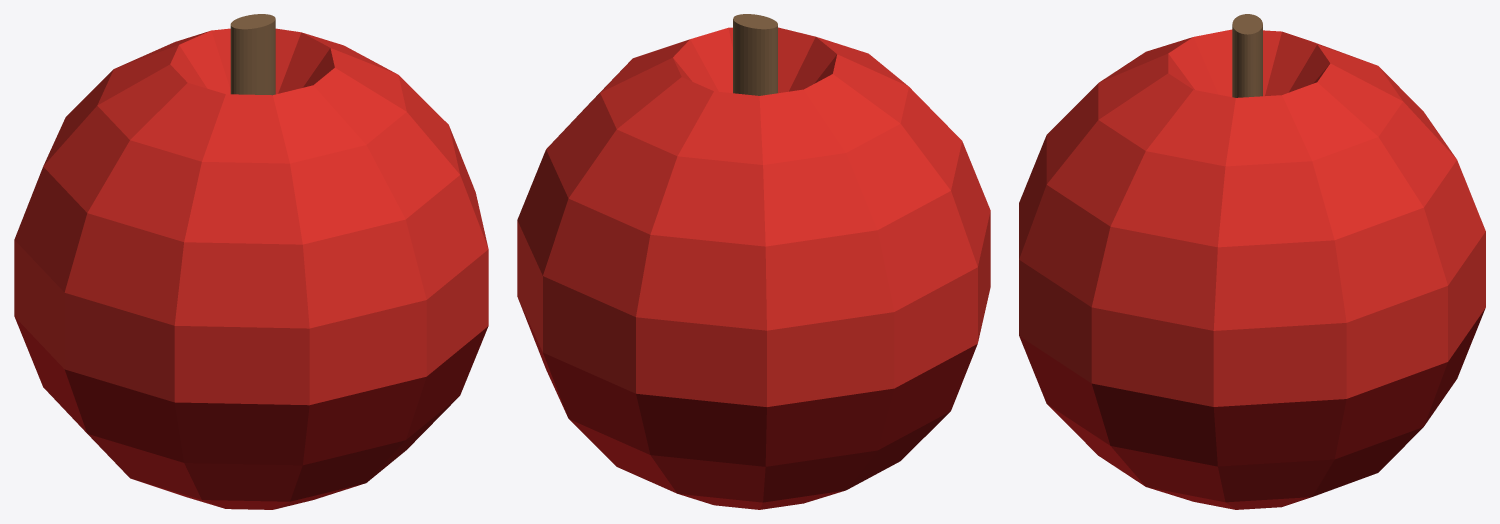
The model's file is Apple.fbx.
3 renders of one model, left to right at view 1: azimuth 30°, elevation 25°; view 2: azimuth 150°, elevation 25°; view 3: azimuth 270°, elevation 25°, orthographic.
Visible parts, largest first — view 1: Sphere; view 2: Sphere; view 3: Sphere.
Part boxes in pixels (bbox=[...]): Sphere: bbox=[14, 14, 488, 509]; Sphere: bbox=[517, 14, 990, 509]; Sphere: bbox=[1019, 14, 1485, 509].
Bounding box in the file's own units: 1.95 × 1.93 × 2.06.
